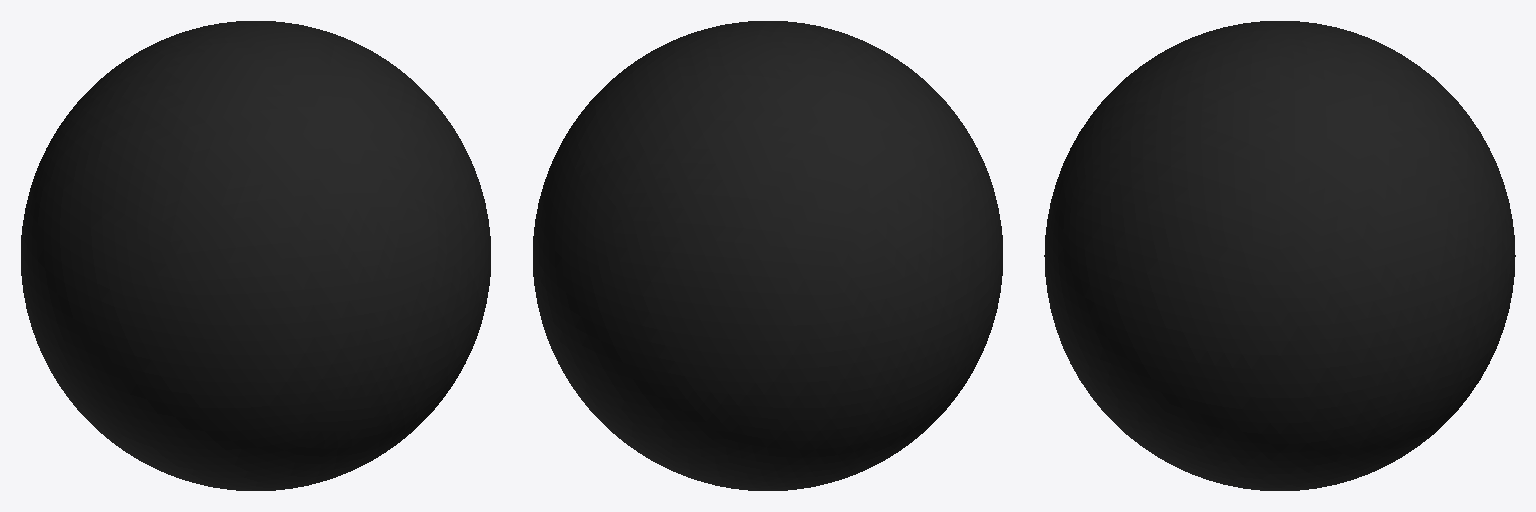
Rendered from ball_diffuse.obj.
3 views of the same model, side by side, from view 1: azimuth 30°, elevation 25°; view 2: azimuth 150°, elevation 25°; view 3: azimuth 270°, elevation 25° (orthographic).
Visible parts, largest first — view 1: Icosphere; view 2: Icosphere; view 3: Icosphere.
Boxes of the visible parts, box(x1,y1,x2,y2) form: Icosphere: box(21, 21, 490, 490); Icosphere: box(533, 21, 1002, 490); Icosphere: box(1044, 21, 1515, 490).
Size of the model in its own units: 2 by 2 by 2.